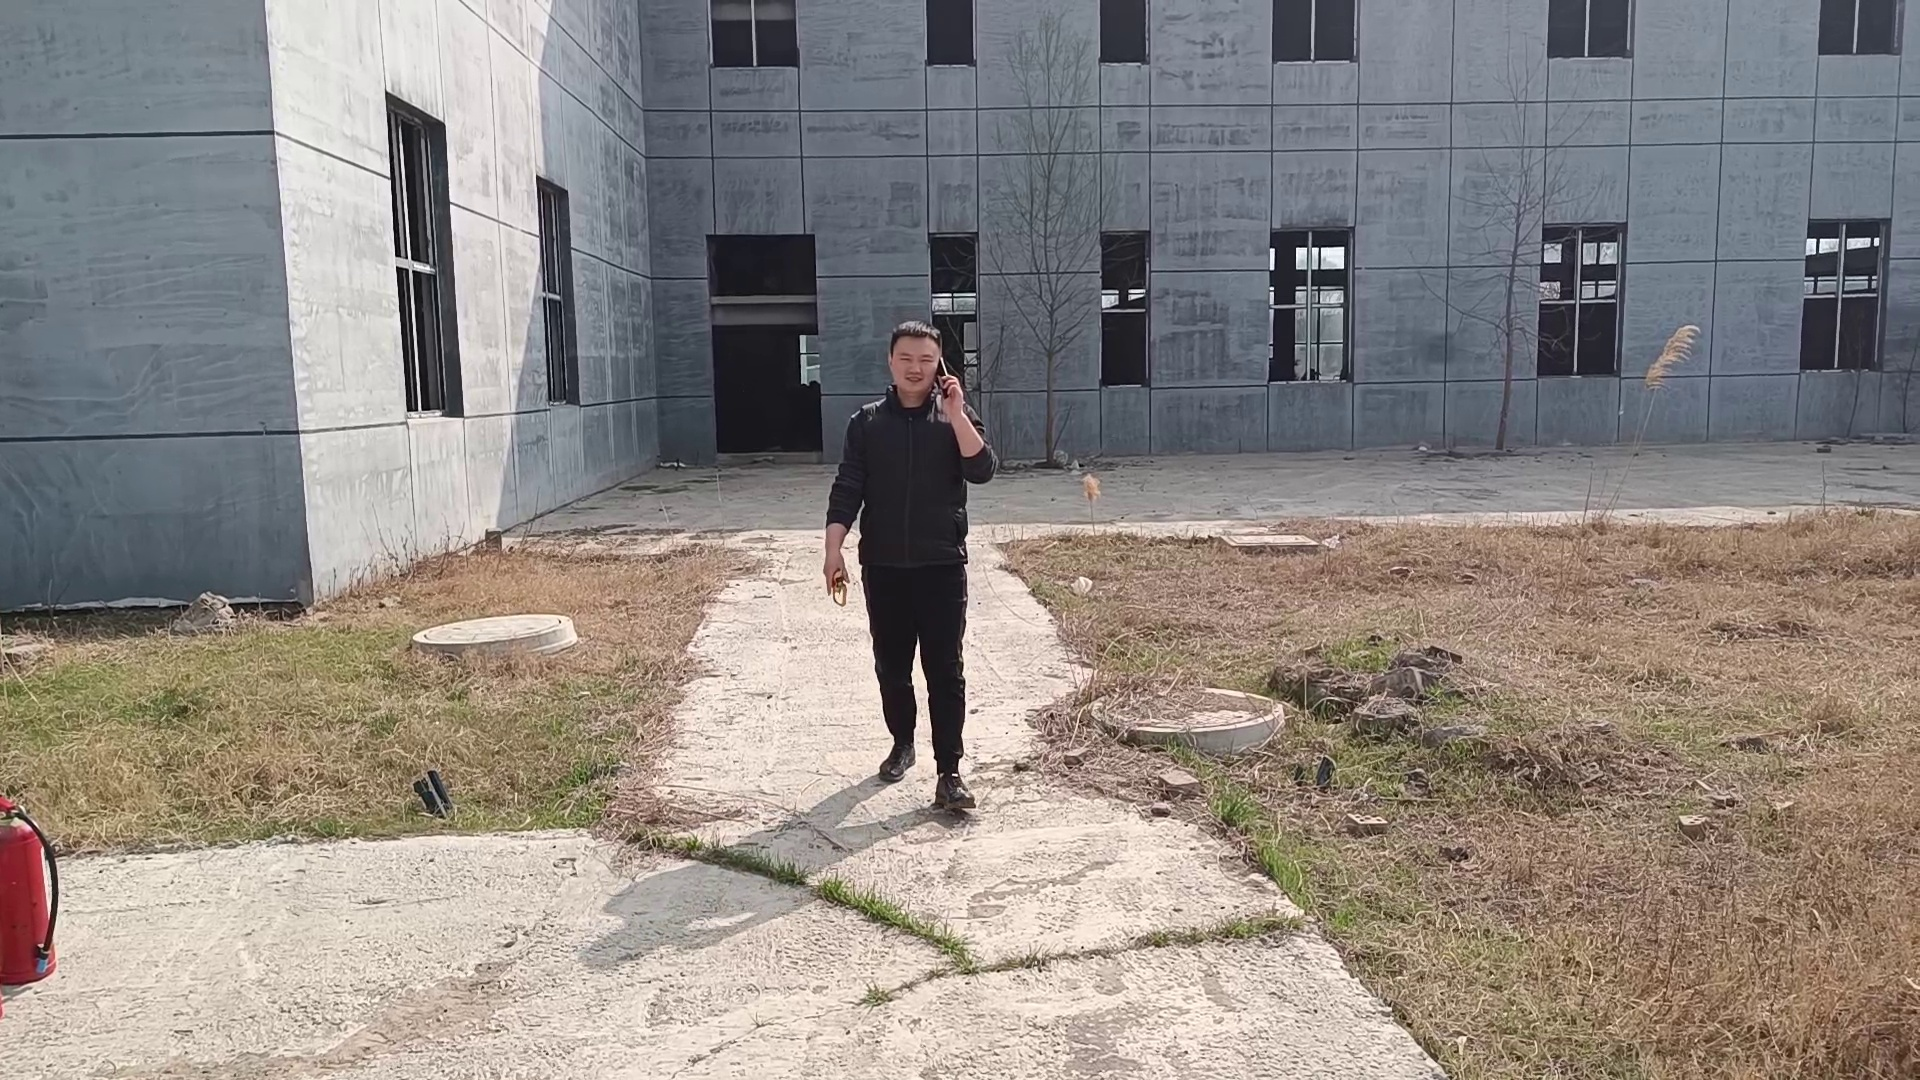phone: (882, 320, 971, 415)
